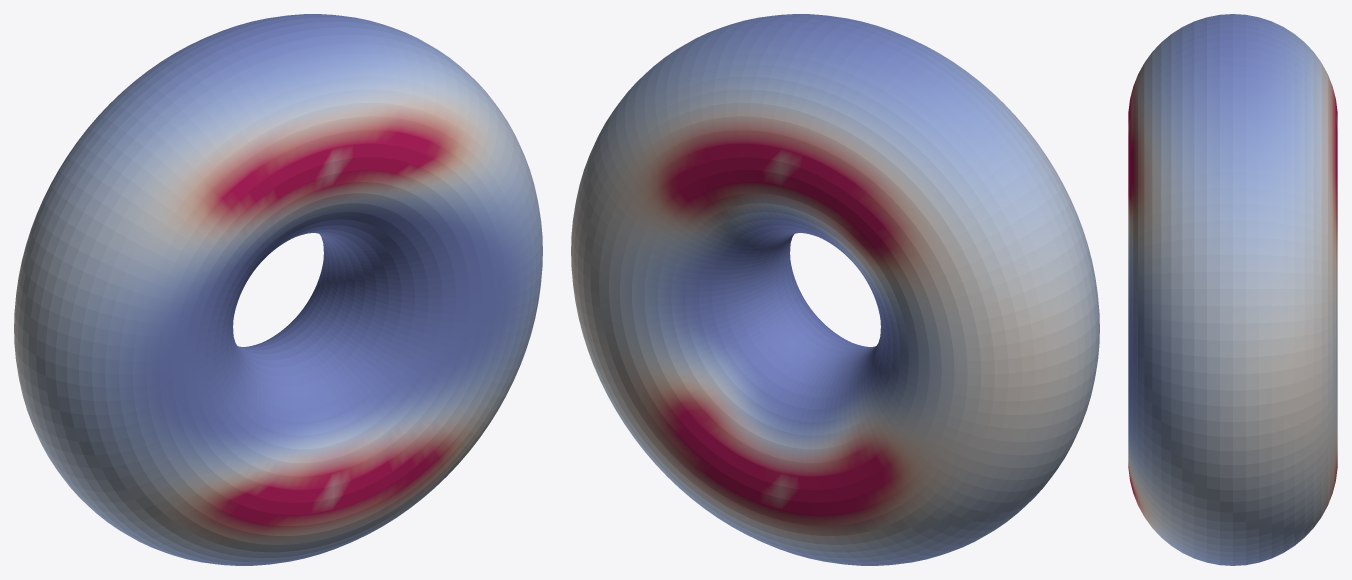
3 views of the same model, side by side, from view 1: azimuth 30°, elevation 25°; view 2: azimuth 150°, elevation 25°; view 3: azimuth 270°, elevation 25° (orthographic). The views are drawn at different scales.
Parts seen in each view (by area): view 1: world; view 2: world; view 3: world.
Boxes of the visible parts, x1,y1,x2,y2 form: world: [14, 14, 542, 565]; world: [571, 14, 1099, 565]; world: [1128, 14, 1337, 565].
Bounding box in the file's own units: 17.2 × 17.2 × 6.52.
